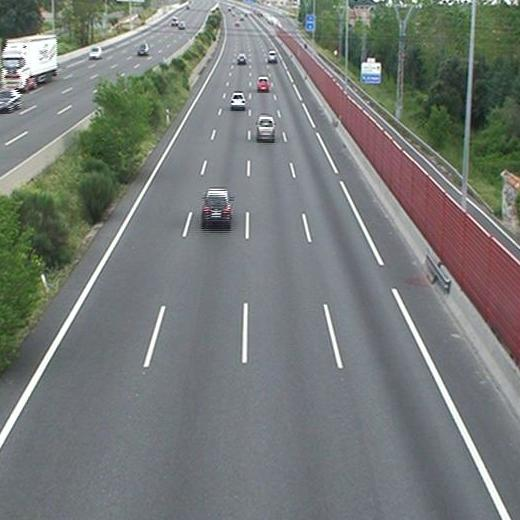car: (202, 189, 232, 223), (257, 116, 276, 140), (231, 93, 245, 108), (257, 77, 269, 91), (268, 51, 277, 63), (237, 54, 246, 63)
